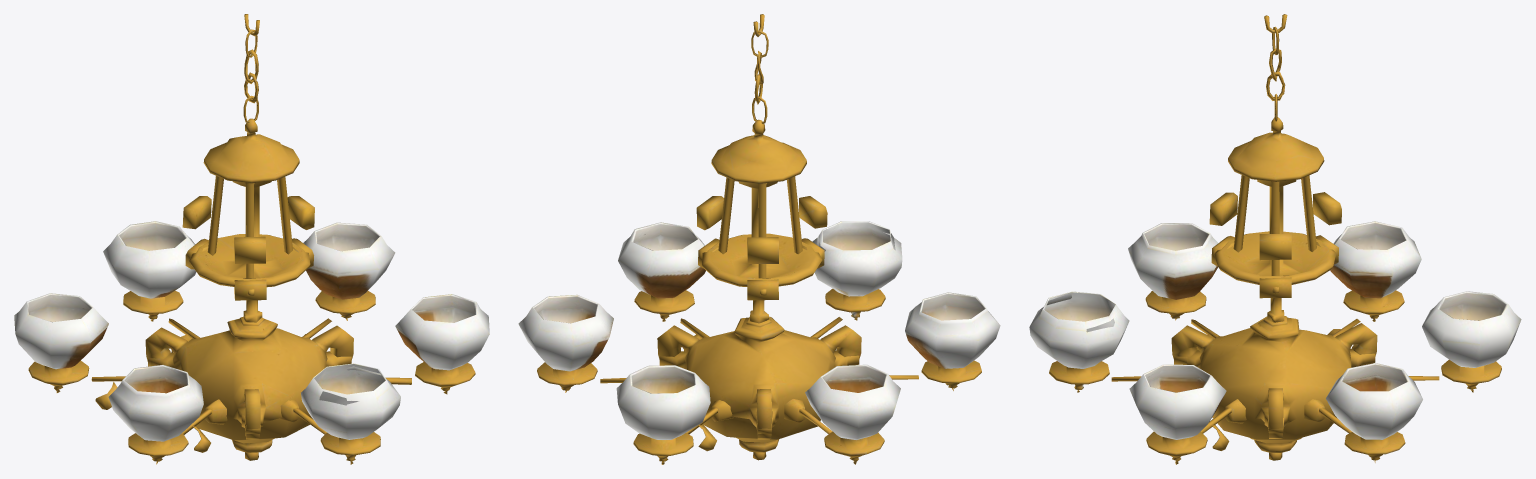
Rendered from Bank_Chandelier.glb.
3 renders of one model, left to right at view 1: azimuth 30°, elevation 25°; view 2: azimuth 150°, elevation 25°; view 3: azimuth 270°, elevation 25°, orthographic.
Parts seen in each view (by area): view 1: tripo_node_08eb9d37-2a3c-4f25-a396-db1275ebff2a; view 2: tripo_node_08eb9d37-2a3c-4f25-a396-db1275ebff2a; view 3: tripo_node_08eb9d37-2a3c-4f25-a396-db1275ebff2a.
Part boxes in pixels (x1,y1,x2,y2): tripo_node_08eb9d37-2a3c-4f25-a396-db1275ebff2a: [14, 14, 489, 464]; tripo_node_08eb9d37-2a3c-4f25-a396-db1275ebff2a: [518, 14, 1000, 464]; tripo_node_08eb9d37-2a3c-4f25-a396-db1275ebff2a: [1029, 14, 1521, 464].
Size of the model in its own units: 0.8806 by 0.9941 by 1.
1 material, 1 textured.
